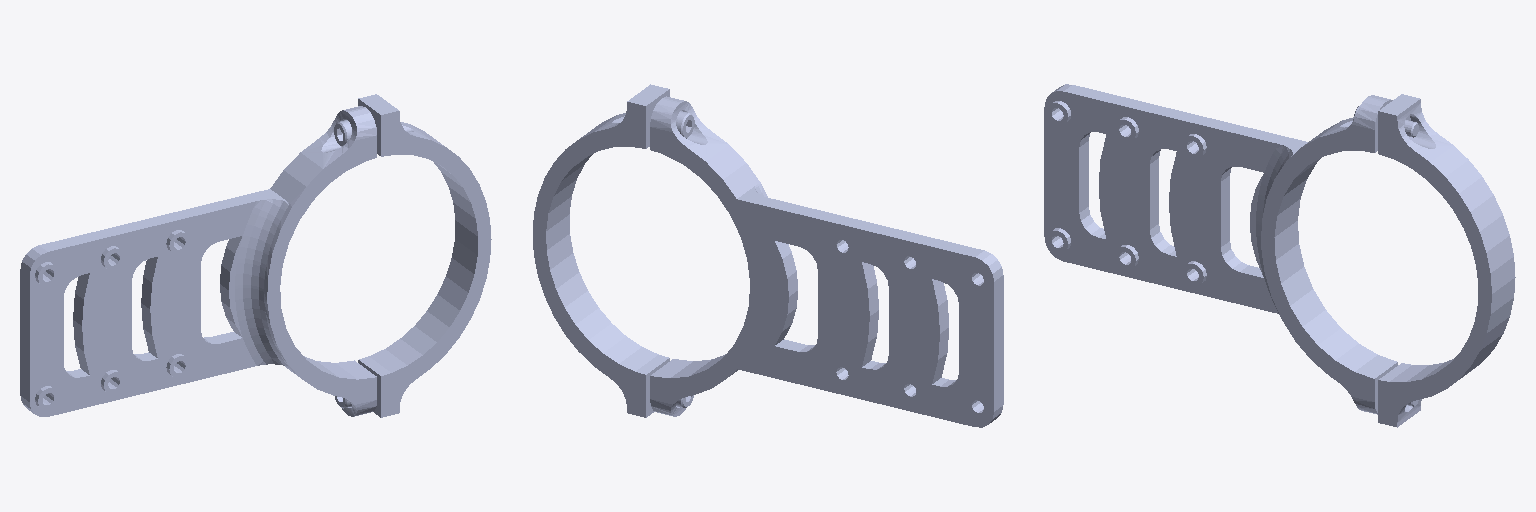
The robot description file, URDF, robot "camera_holder":
<?xml version="1.0" encoding="utf-8"?>
<!-- This URDF was automatically created by SolidWorks to URDF Exporter! Originally created by [author] ([email redacted]) 
     Commit Version: 1.6.0-4-g7f85cfe  Build Version: 1.6.7995.38578
     For more information, please see http://wiki.ros.org/sw_urdf_exporter -->
<robot
  name="camera_holder">
  <link
    name="camera_holder_link">
    <inertial>
      <origin
        xyz="0.0400876744189435 -0.0446215529076703 0.139281386768742"
        rpy="0 0 0" />
      <mass
        value="0.0521202445897232" />
      <inertia
        ixx="3.8230487702132E-05"
        ixy="3.27421083036429E-10"
        ixz="-2.26934260877874E-06"
        iyy="5.35195933007049E-05"
        iyz="1.93257602850377E-11"
        izz="9.02678753746264E-05" />
    </inertial>
    <visual>
      <origin
        xyz="0 0 0"
        rpy="0 0 0" />
      <geometry>
        <mesh
          filename="package://camera_holder/meshes/camera_holder_link.STL" />
      </geometry>
      <material
        name="">
        <color
          rgba="0.792156862745098 0.819607843137255 0.933333333333333 1" />
      </material>
    </visual>
    <collision>
      <origin
        xyz="0 0 0"
        rpy="0 0 0" />
      <geometry>
        <mesh
          filename="package://camera_holder/meshes/camera_holder_link.STL" />
      </geometry>
    </collision>
  </link>
</robot>

--- Render facts (derived) ---
The picture shows the robot from 3 angles, left to right: view 1: azimuth 30°, elevation 25°; view 2: azimuth 150°, elevation 25°; view 3: azimuth 330°, elevation 25°; orthographic projection.
Model camera_holder with 1 links and 0 joints (none), rooted at camera_holder_link, posed all joints at 0.
Visible links, largest first — view 1: camera_holder_link; view 2: camera_holder_link; view 3: camera_holder_link.
Link boxes in pixels (bbox=[...]): camera_holder_link: bbox=[20, 94, 491, 417]; camera_holder_link: bbox=[533, 84, 1003, 427]; camera_holder_link: bbox=[1044, 84, 1515, 427].
Bounding box of the posed robot: 0.1705 × 0.015 × 0.11 m (x, y, z).
Meshes: 1 distinct files referenced, 1 mesh visuals loaded (1 binary STL).